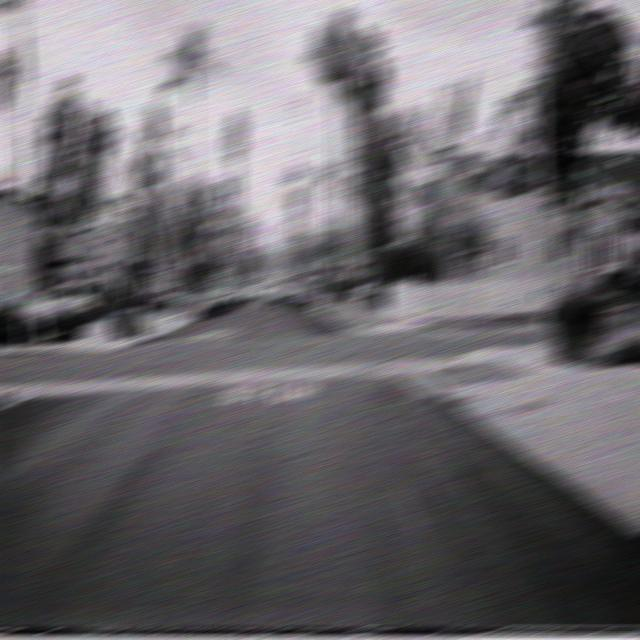stop_sign: (432, 160, 466, 213)
